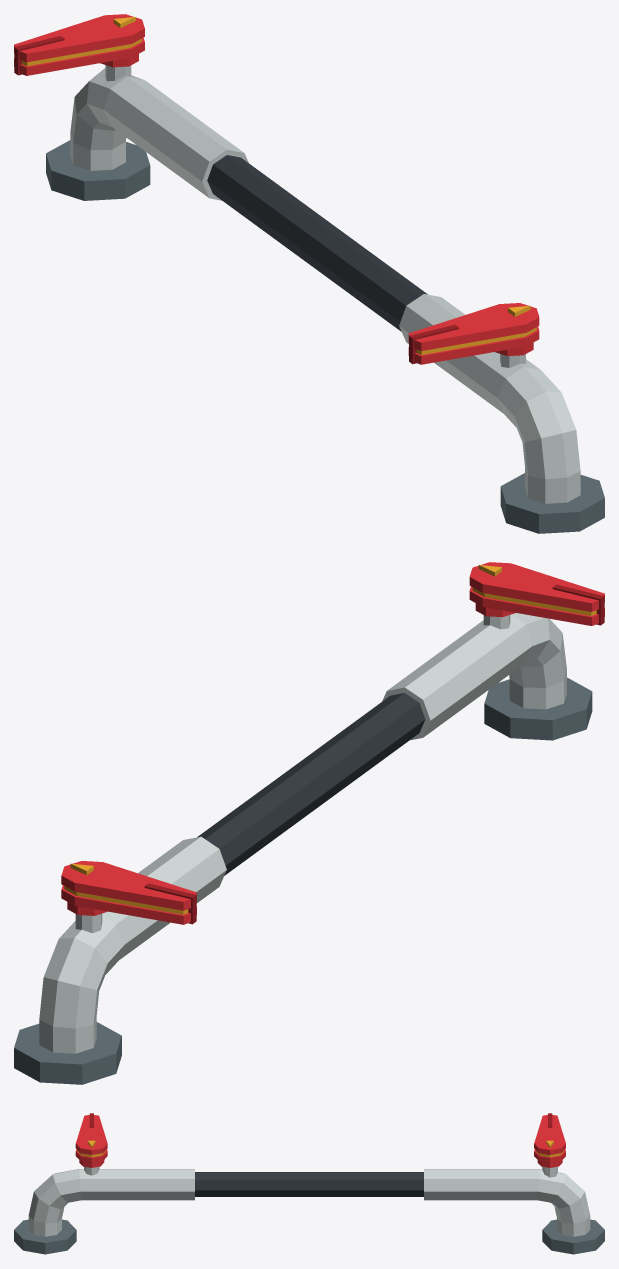
The model's file is steamPipeB.FBX.
3 views of the same model, one above another, from view 1: azimuth 30°, elevation 25°; view 2: azimuth 150°, elevation 25°; view 3: azimuth 270°, elevation 25° (orthographic). The views are drawn at different scales.
Parts seen in each view (by area): view 1: steamPipeB_body, steamPipeB_valveB, steamPipeB_valveA; view 2: steamPipeB_body, steamPipeB_valveB, steamPipeB_valveA; view 3: steamPipeB_body, steamPipeB_valveB, steamPipeB_valveA.
Part boxes in pixels (x1=…): steamPipeB_body: x1=46, y1=68, x2=604, y2=533; steamPipeB_valveB: x1=14, y1=14, x2=144, y2=81; steamPipeB_valveA: x1=408, y1=303, x2=539, y2=367; steamPipeB_body: x1=14, y1=613, x2=592, y2=1084; steamPipeB_valveB: x1=61, y1=861, x2=196, y2=933; steamPipeB_valveA: x1=469, y1=562, x2=604, y2=629; steamPipeB_body: x1=14, y1=1169, x2=604, y2=1254; steamPipeB_valveB: x1=534, y1=1113, x2=565, y2=1177; steamPipeB_valveA: x1=75, y1=1113, x2=107, y2=1175.
Bounding box in the file's own units: 1.83 × 2.03 × 10.82.
